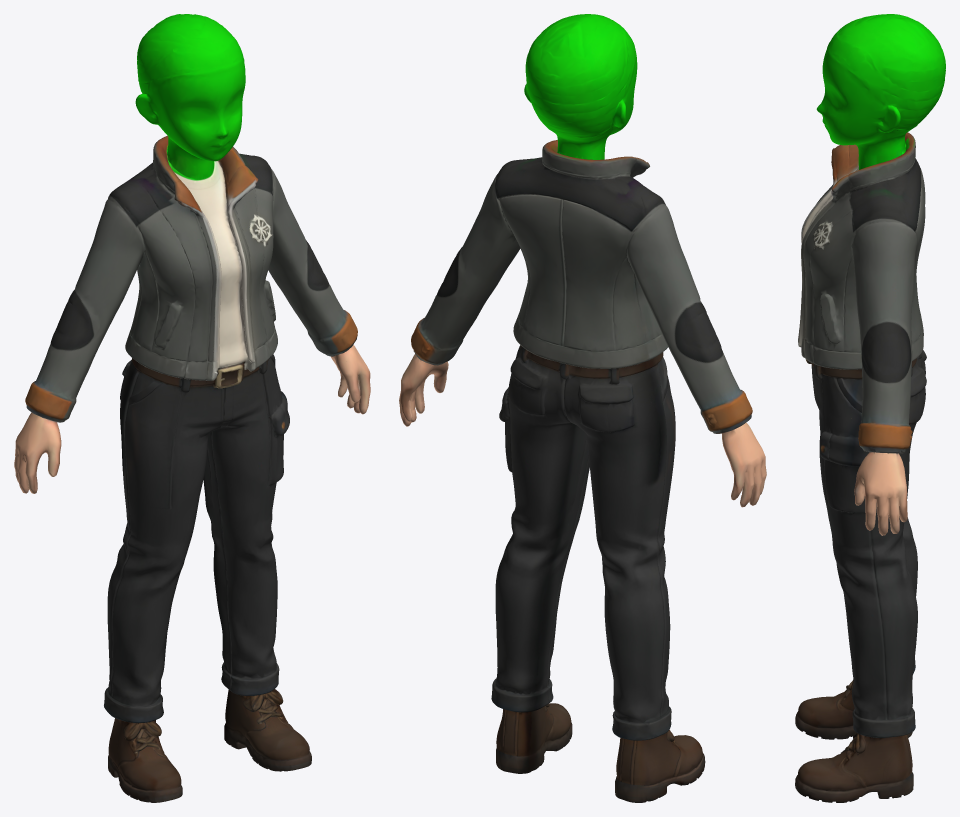
The model's file is body.glb.
3 renders of one model, left to right at view 1: azimuth 30°, elevation 25°; view 2: azimuth 150°, elevation 25°; view 3: azimuth 270°, elevation 25°, orthographic. The views are drawn at different scales.
Visible parts, largest first — view 1: tripo_node_8fef909d-f5fc-4d28-89bd-d99f6323f394; view 2: tripo_node_8fef909d-f5fc-4d28-89bd-d99f6323f394; view 3: tripo_node_8fef909d-f5fc-4d28-89bd-d99f6323f394.
Boxes of the visible parts, bbox=[...] form: tripo_node_8fef909d-f5fc-4d28-89bd-d99f6323f394: bbox=[14, 14, 370, 802]; tripo_node_8fef909d-f5fc-4d28-89bd-d99f6323f394: bbox=[399, 14, 766, 802]; tripo_node_8fef909d-f5fc-4d28-89bd-d99f6323f394: bbox=[795, 14, 945, 802].
Bounding box in the file's own units: 0.4835 × 0.9789 × 0.1803.
1 material, 1 textured.
